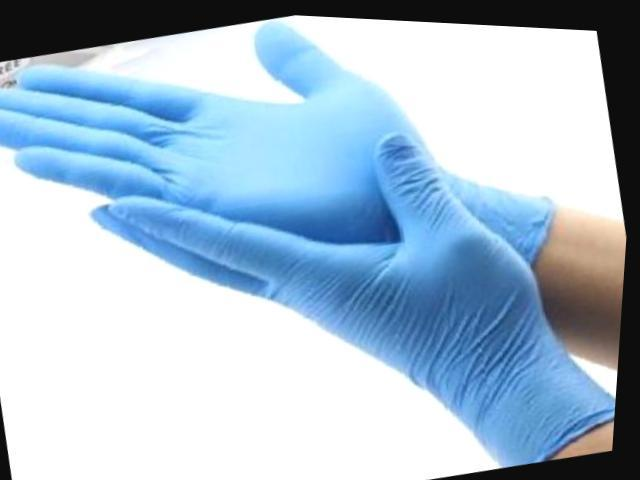Hand-in-Glove: (0, 0, 603, 385), (78, 94, 635, 480)
